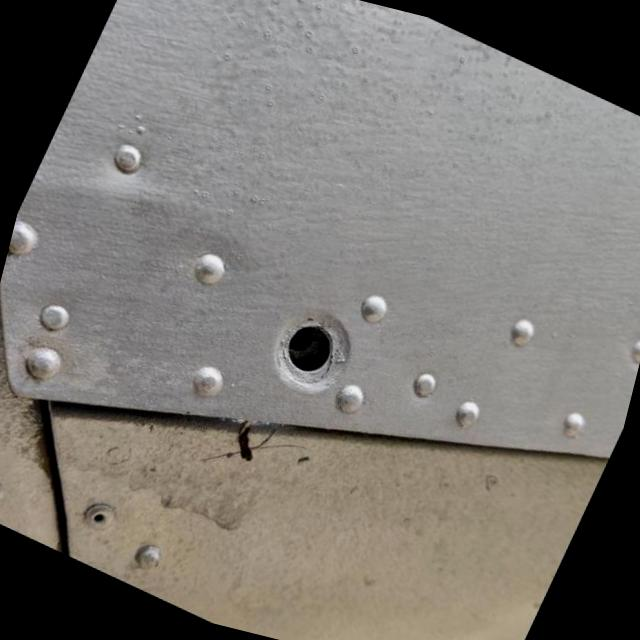Missing Fastener: (266, 303, 360, 402)
